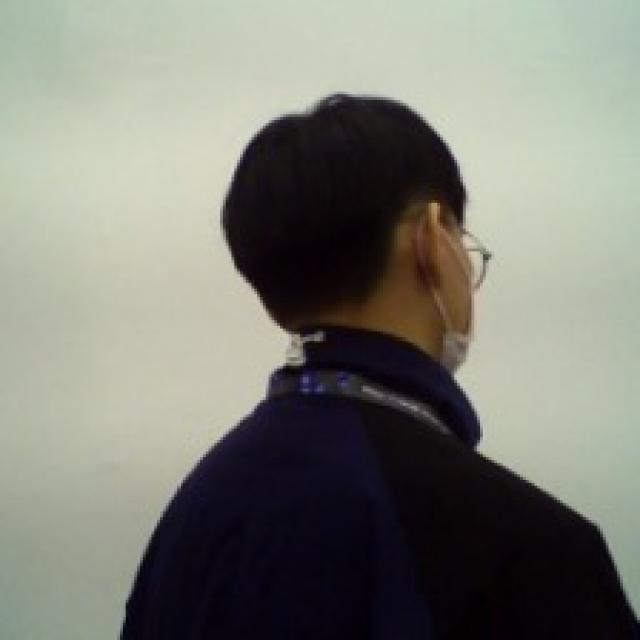no_gloves: (218, 86, 470, 332)
